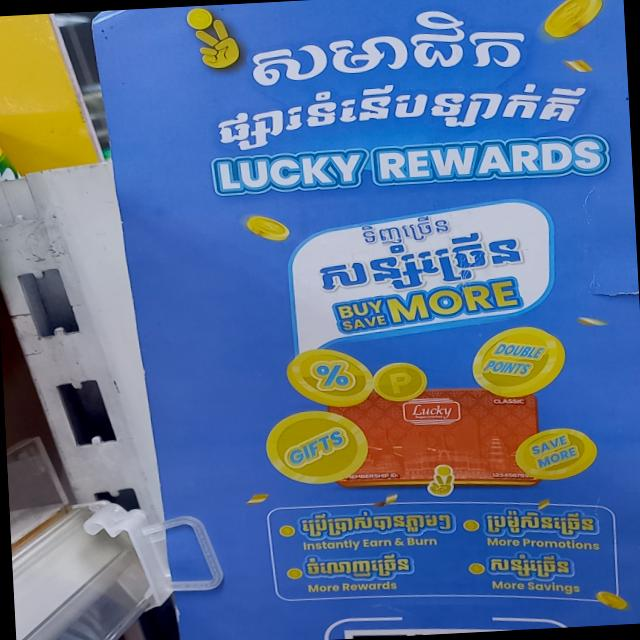Yolov11kh: (211, 81, 598, 153), (247, 8, 530, 93), (315, 227, 534, 298), (295, 507, 458, 543), (482, 505, 612, 544), (358, 209, 460, 251), (298, 551, 425, 583), (484, 550, 583, 583)
